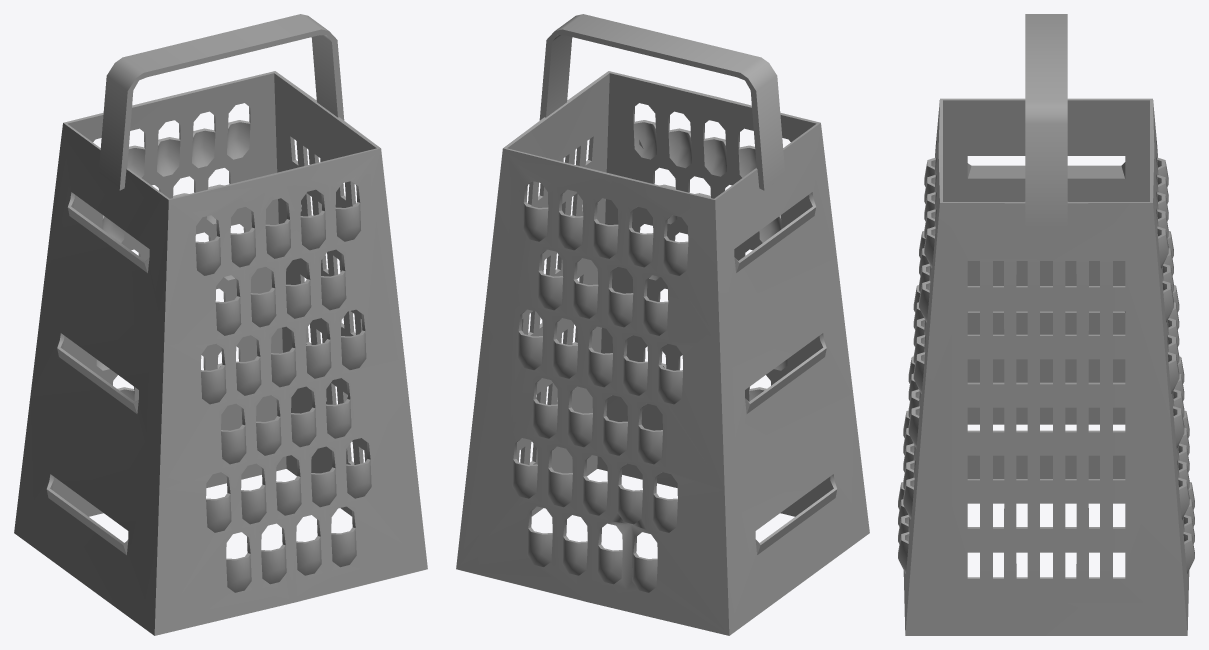
Rendered from CheeseGrinder_01.fbx.
The picture shows the model from 3 angles, left to right: view 1: azimuth 30°, elevation 25°; view 2: azimuth 150°, elevation 25°; view 3: azimuth 270°, elevation 25°; orthographic projection.
Visible parts, largest first — view 1: CheeseGrinder_01; view 2: CheeseGrinder_01; view 3: CheeseGrinder_01.
Part boxes in pixels (x1,y1,x2,y2): CheeseGrinder_01: [14, 14, 427, 635]; CheeseGrinder_01: [456, 14, 869, 635]; CheeseGrinder_01: [898, 14, 1194, 635].
Bounding box in the file's own units: 0.1156 × 0.2052 × 0.1079.
